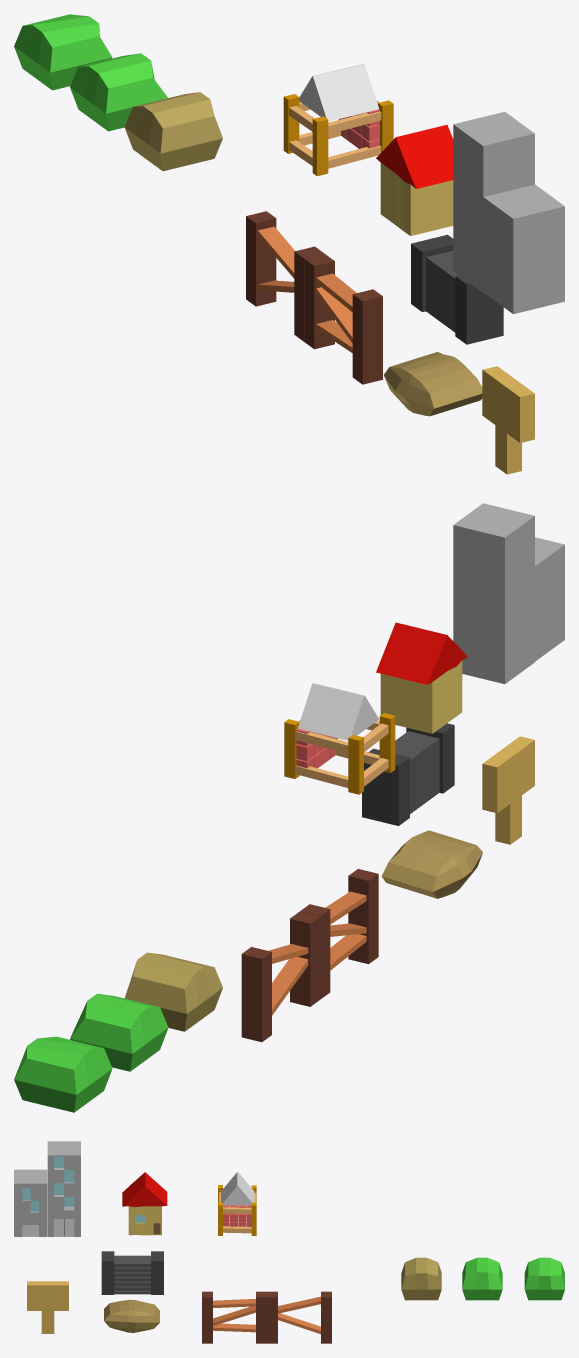
File: Tienda.fbx
3 renders of one model, top to bottom at view 1: azimuth 30°, elevation 25°; view 2: azimuth 150°, elevation 25°; view 3: azimuth 270°, elevation 25°, orthographic. The views are drawn at different scales.
Parts seen in each view (by area): view 1: Cube.057, Cube.030, Cube.058, Cube.060, Cube.059, Cube.013, Cube.023, Cube.055, Cube.016, Cube.029, Cube.022, Cube.015 (+11 smaller); view 2: Cube.057, Cube.030, Cube.060, Cube.058, Cube.059, Cube.013, Cube.023, Cube.055, Cube.022, Cube.028, Cube.015, Cube.025 (+7 smaller); view 3: Cube.057, Cube.030, Cube.060, Cube.059, Cube.058, Cube.023, Cube.013, Cube.015, Cube.055, Cube.029, Cube.016, Cube.019 (+8 smaller).
Boxes of the visible parts, bbox=[...] form: Cube.057: bbox=[453, 111, 564, 314]; Cube.030: bbox=[376, 125, 453, 235]; Cube.058: bbox=[124, 92, 222, 171]; Cube.060: bbox=[14, 14, 112, 90]; Cube.059: bbox=[70, 53, 167, 131]; Cube.013: bbox=[384, 352, 482, 416]; Cube.023: bbox=[482, 366, 534, 474]; Cube.055: bbox=[299, 63, 378, 121]; Cube.016: bbox=[352, 289, 382, 384]; Cube.029: bbox=[455, 275, 503, 344]; Cube.022: bbox=[246, 211, 276, 306]; Cube.015: bbox=[426, 250, 458, 332]; Cube.057: bbox=[453, 503, 564, 684]; Cube.030: bbox=[376, 622, 467, 733]; Cube.060: bbox=[14, 1036, 112, 1112]; Cube.058: bbox=[124, 952, 222, 1031]; Cube.059: bbox=[70, 993, 168, 1071]; Cube.013: bbox=[381, 830, 482, 898]; Cube.023: bbox=[482, 736, 534, 844]; Cube.055: bbox=[298, 683, 378, 740]; Cube.022: bbox=[241, 947, 271, 1042]; Cube.028: bbox=[362, 748, 409, 825]; Cube.015: bbox=[395, 731, 439, 813]; Cube.025: bbox=[290, 911, 320, 1006]; Cube.057: bbox=[14, 1141, 80, 1236]; Cube.030: bbox=[122, 1172, 167, 1235]; Cube.060: bbox=[524, 1257, 564, 1300]; Cube.059: bbox=[462, 1257, 502, 1300]; Cube.058: bbox=[401, 1257, 441, 1300]; Cube.023: bbox=[27, 1281, 68, 1333]; Cube.013: bbox=[103, 1299, 159, 1332]; Cube.015: bbox=[114, 1255, 150, 1294]; Cube.055: bbox=[221, 1172, 254, 1205]; Cube.029: bbox=[101, 1251, 114, 1294]; Cube.016: bbox=[202, 1291, 212, 1343]; Cube.019: bbox=[256, 1291, 266, 1343].
Bounding box in the file's own units: 317 × 1273 × 3310.
